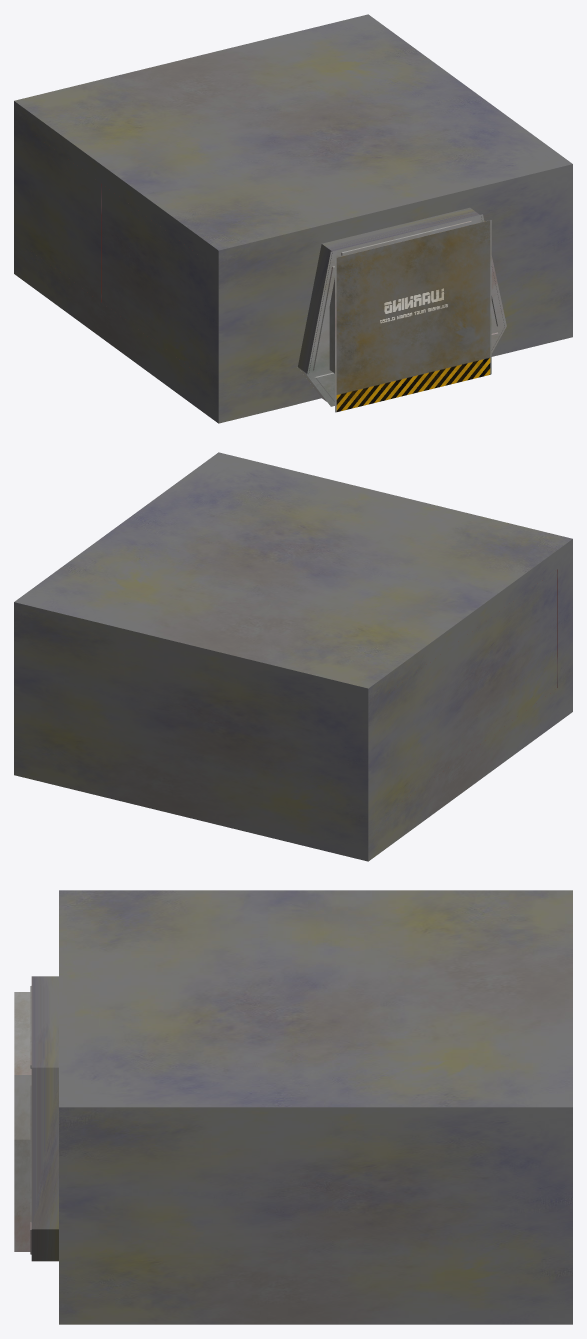
File: AntonPhibes6.FBX
The picture shows the model from 3 angles, top to bottom: view 1: azimuth 30°, elevation 25°; view 2: azimuth 150°, elevation 25°; view 3: azimuth 270°, elevation 25°; orthographic projection. The views are drawn at different scales.
Visible parts, largest first — view 1: Plane06, Room01, Plane05, DoorInner5, BulkheadInner5; view 2: Plane06, Plane04, Plane05; view 3: Room01, Plane06, BulkheadInner5.
Boxes of the visible parts, bbox=[...] form: Plane06: bbox=[14, 14, 572, 250]; Room01: bbox=[218, 164, 572, 423]; Plane05: bbox=[14, 101, 218, 423]; DoorInner5: bbox=[336, 220, 490, 411]; BulkheadInner5: bbox=[307, 214, 506, 412]; Plane06: bbox=[14, 452, 572, 688]; Plane04: bbox=[14, 602, 368, 861]; Plane05: bbox=[368, 539, 572, 861]; Room01: bbox=[31, 976, 572, 1324]; Plane06: bbox=[59, 890, 572, 1107]; BulkheadInner5: bbox=[14, 986, 31, 1254].
Size of the model in its own units: 600 by 653 by 280.
6 materials, 6 textured.
